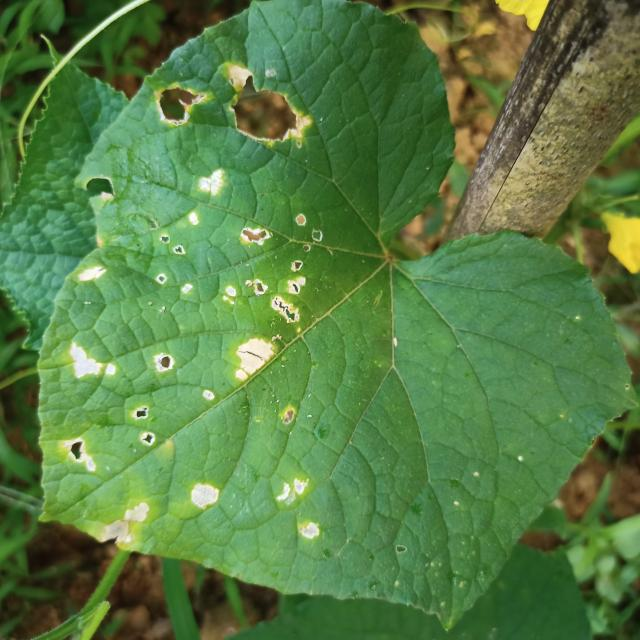disease_cucumber: (220, 212, 325, 327), (222, 61, 315, 154), (273, 474, 330, 547), (64, 337, 122, 390), (150, 83, 209, 132), (230, 332, 282, 387), (103, 497, 149, 548), (187, 476, 225, 518), (63, 436, 98, 476), (134, 400, 158, 456), (194, 164, 224, 199), (76, 264, 118, 288), (149, 352, 180, 376)
